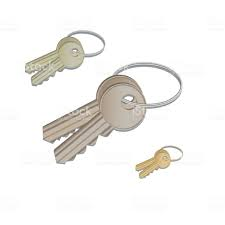kicharina: (15, 25, 107, 86), (132, 143, 194, 178)
